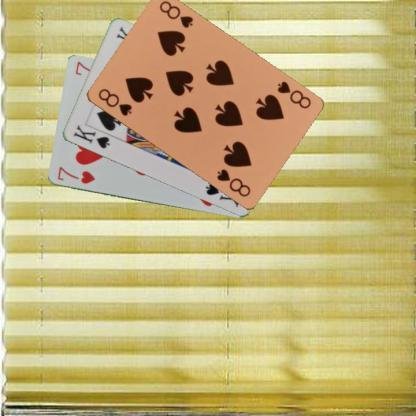7h: (55, 164, 96, 186)
8s: (274, 78, 312, 110), (95, 86, 133, 117)
Ks: (70, 122, 111, 150)
